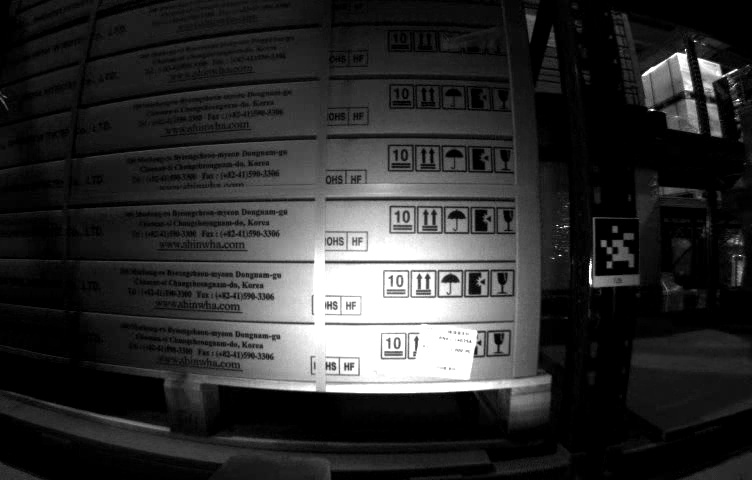True Barcode: (418, 321, 473, 381)
